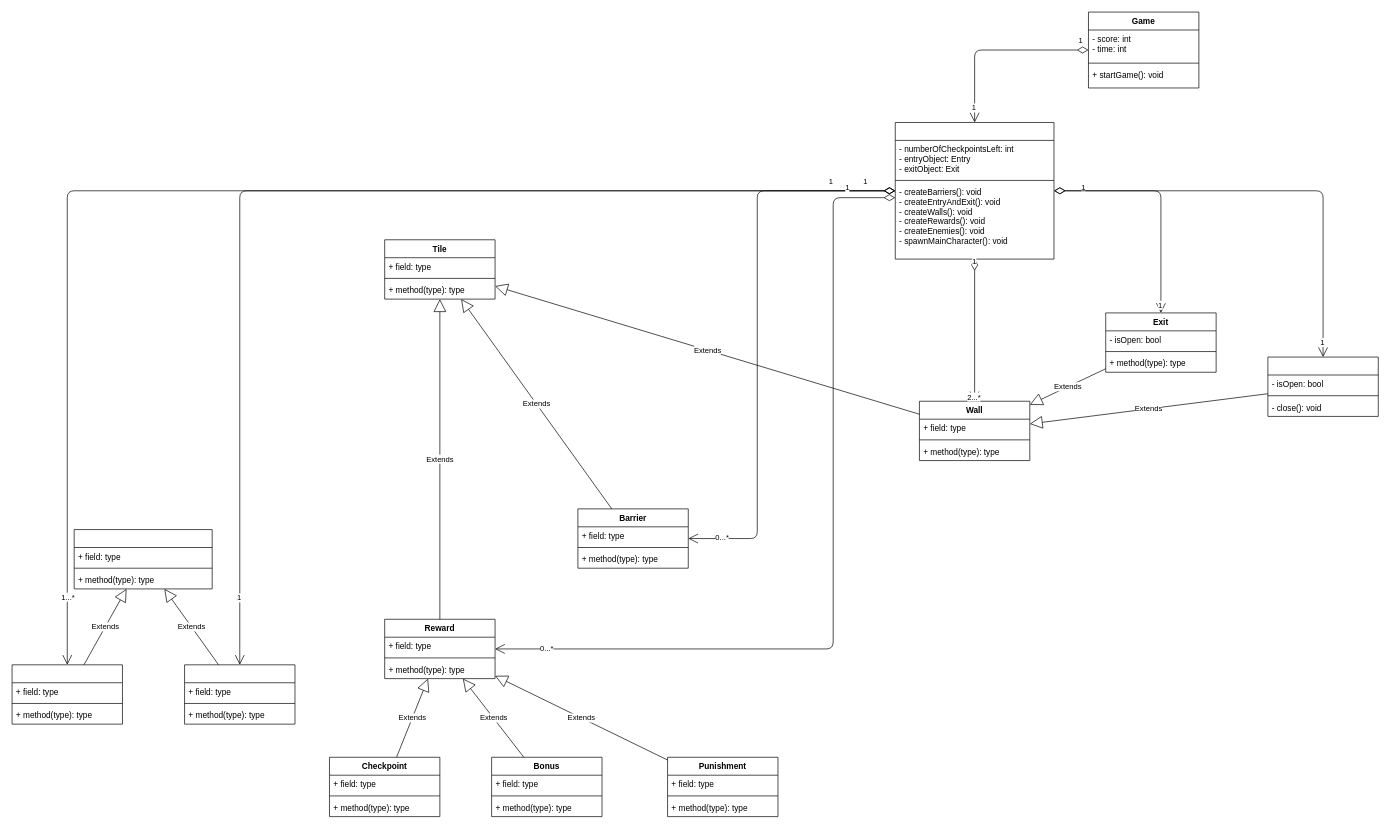
Image size: 1390x831. Some labels were removed from this diagram. The box of each missing label's shape, as (x1, y1, x2, y2) in pixels:
Board: (895, 122, 1054, 259)
Enemy: (11, 664, 122, 724)
Entry: (1267, 356, 1378, 416)
Main Character: (184, 664, 295, 724)
Non-stationary Characters: (73, 529, 212, 589)
